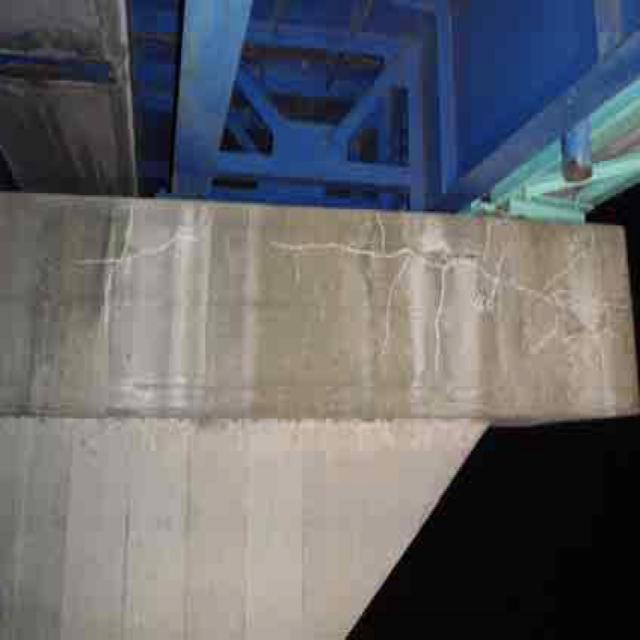crack: (276, 214, 624, 390)
